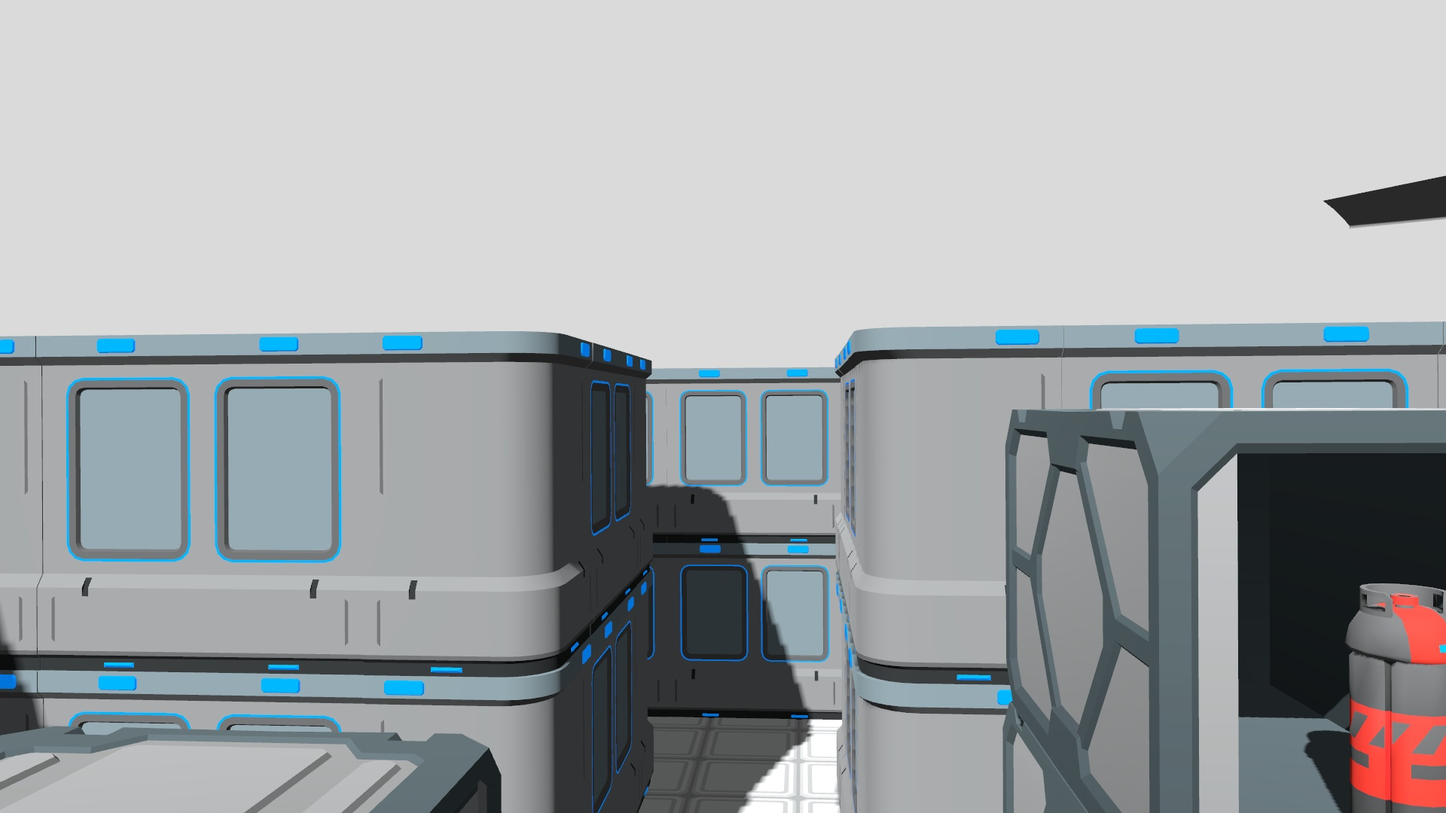red_barrel: (1347, 571, 1446, 813)
